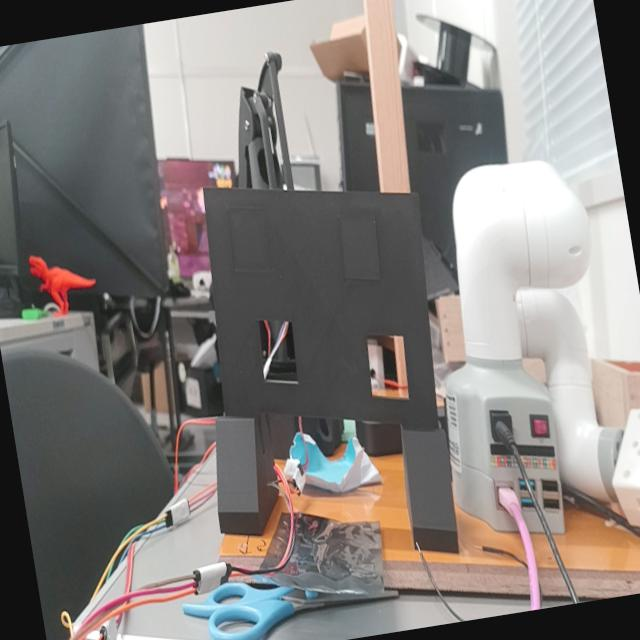Obstacle: (366, 335, 409, 399), (260, 319, 298, 383)
Wall: (203, 187, 439, 428)
